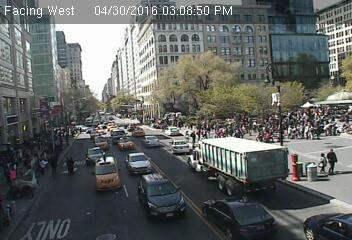neg: (246, 46, 272, 81), (320, 22, 342, 51), (47, 33, 69, 62), (117, 145, 137, 172), (20, 35, 39, 61), (83, 71, 102, 96), (280, 33, 298, 56), (308, 36, 324, 58), (172, 80, 187, 100), (95, 37, 110, 56), (161, 38, 175, 56), (291, 72, 304, 88), (207, 87, 219, 102), (35, 71, 47, 86), (317, 72, 328, 86), (51, 64, 62, 78)
pos: (46, 150, 65, 176), (325, 146, 344, 171), (31, 156, 47, 178), (63, 156, 78, 176), (62, 132, 76, 151), (21, 152, 34, 169), (315, 151, 327, 168), (190, 130, 197, 140)
